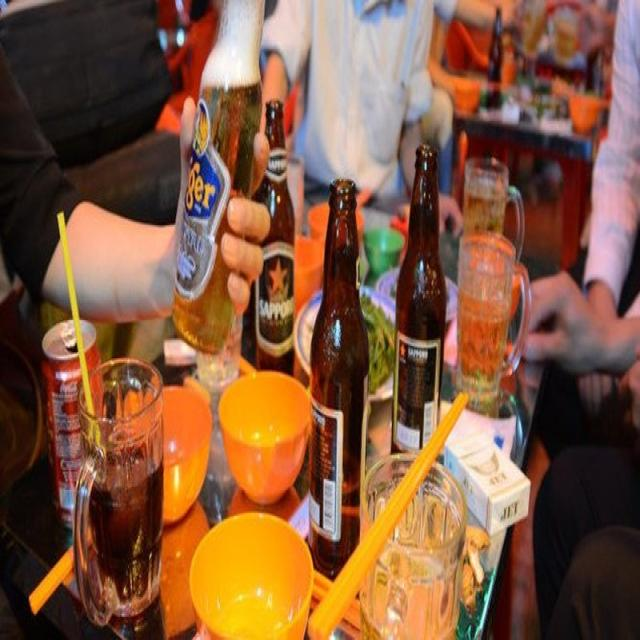bia: (174, 0, 266, 330), (312, 176, 368, 582), (397, 140, 440, 472), (455, 225, 524, 399), (257, 103, 296, 375), (465, 161, 521, 279)
coca cola: (70, 379, 170, 626), (43, 326, 103, 524)
rau muong xao: (298, 293, 399, 399)
